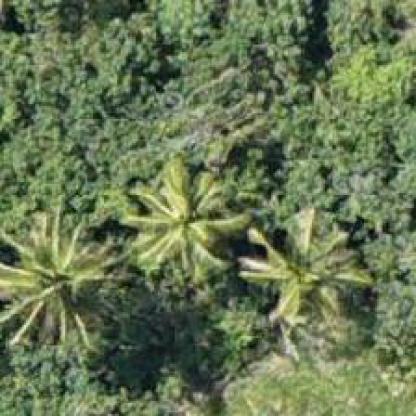coconut tree: (0, 159, 253, 347), (237, 208, 371, 320)
